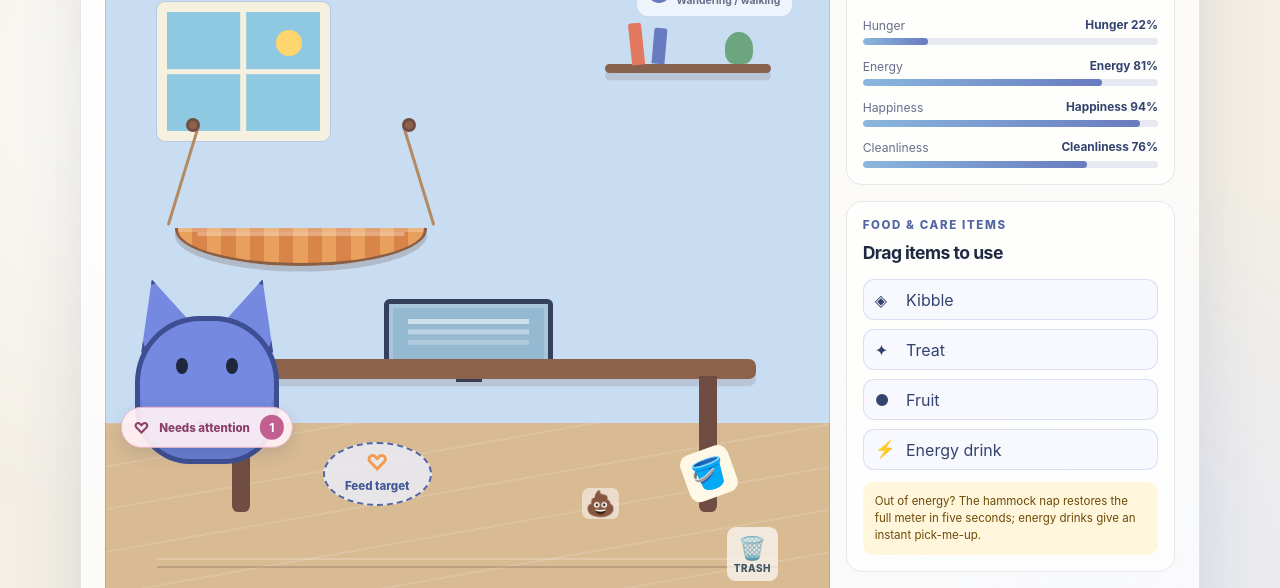
it: CodeGotchi petting adapter › keeps the authoritative demand after a stateful rejected pet care
(page scrolled)
Press the mouse on the picture with test id "pet" at (207, 368), box [119, 272, 295, 464]
(page scrolled)
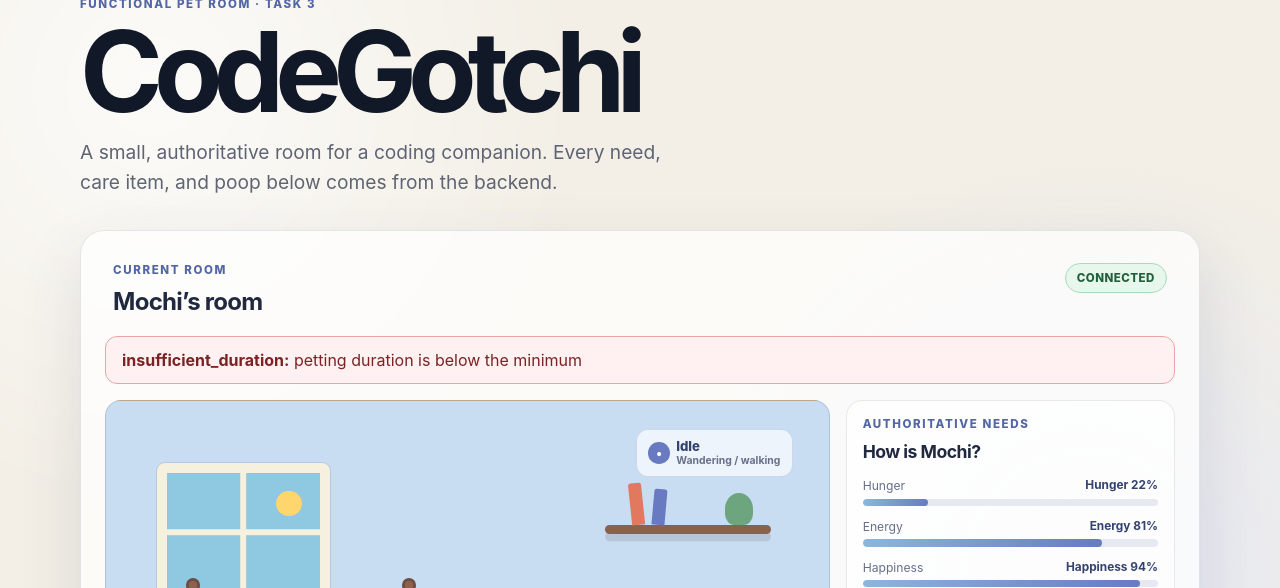
Expected: the message "insufficient_duration: petting duration is below the minimum" is shown, [105, 336, 1175, 384]
